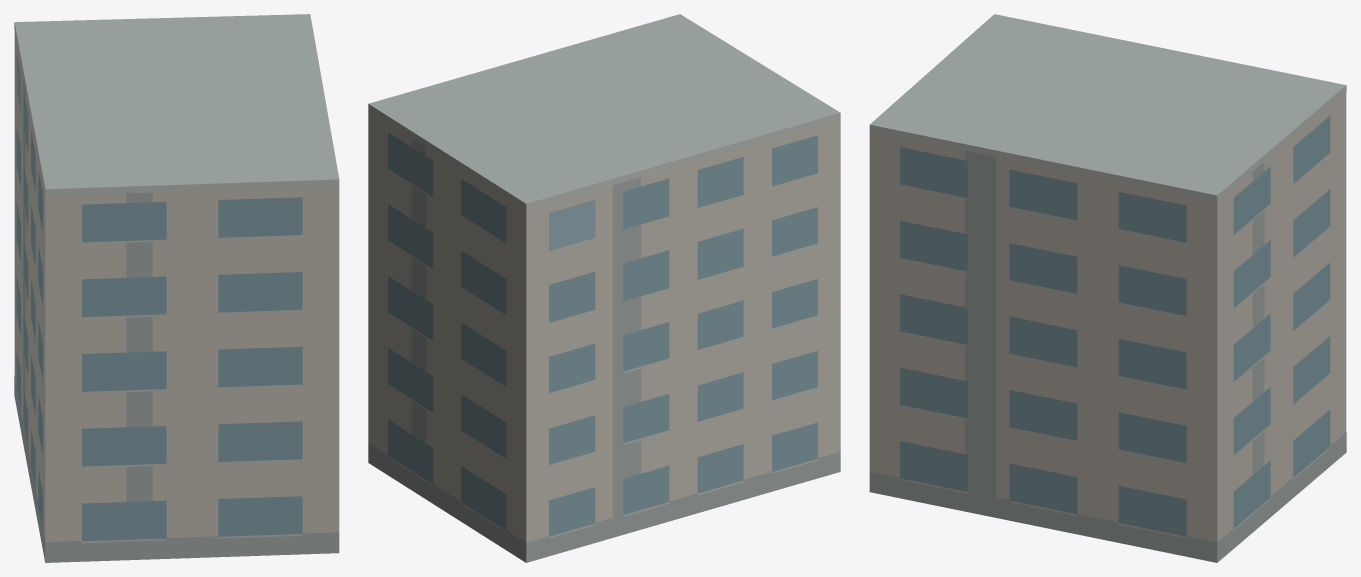
Rendered from survey-upis-32900730.glb.
3 renders of one model, left to right at view 1: azimuth 30°, elevation 25°; view 2: azimuth 150°, elevation 25°; view 3: azimuth 270°, elevation 25°, orthographic. The views are drawn at different scales.
Visible parts, largest first — view 1: survey-upis-32900730.tmp; view 2: survey-upis-32900730.tmp; view 3: survey-upis-32900730.tmp.
Boxes of the visible parts, left/top/right/bottom form: survey-upis-32900730.tmp: left=14, top=14, right=339, bottom=562; survey-upis-32900730.tmp: left=368, top=14, right=840, bottom=562; survey-upis-32900730.tmp: left=869, top=14, right=1346, bottom=562.
Size of the model in its own units: 14.1 by 13.3 by 15.65.
